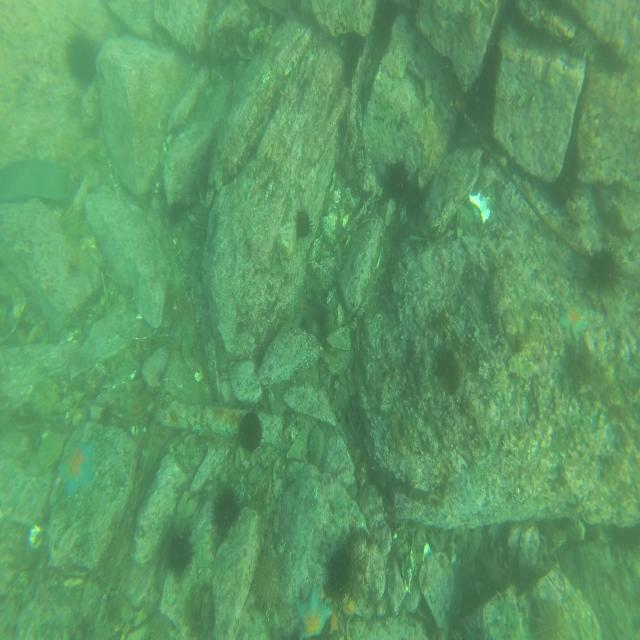echinus: (249, 549, 283, 616), (529, 591, 574, 640), (64, 24, 97, 85), (588, 241, 624, 295), (164, 529, 200, 580), (212, 487, 240, 540), (570, 27, 604, 64), (238, 408, 264, 456), (143, 605, 175, 640), (292, 202, 316, 244), (166, 198, 188, 227)
scallop: (467, 188, 492, 230)
starfish: (58, 434, 98, 501), (294, 580, 335, 637), (558, 297, 590, 340)
